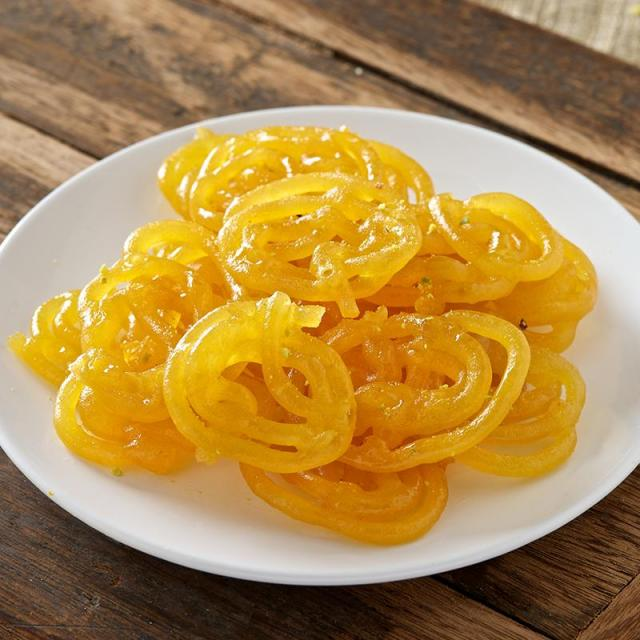jalebi: (48, 112, 610, 536)
